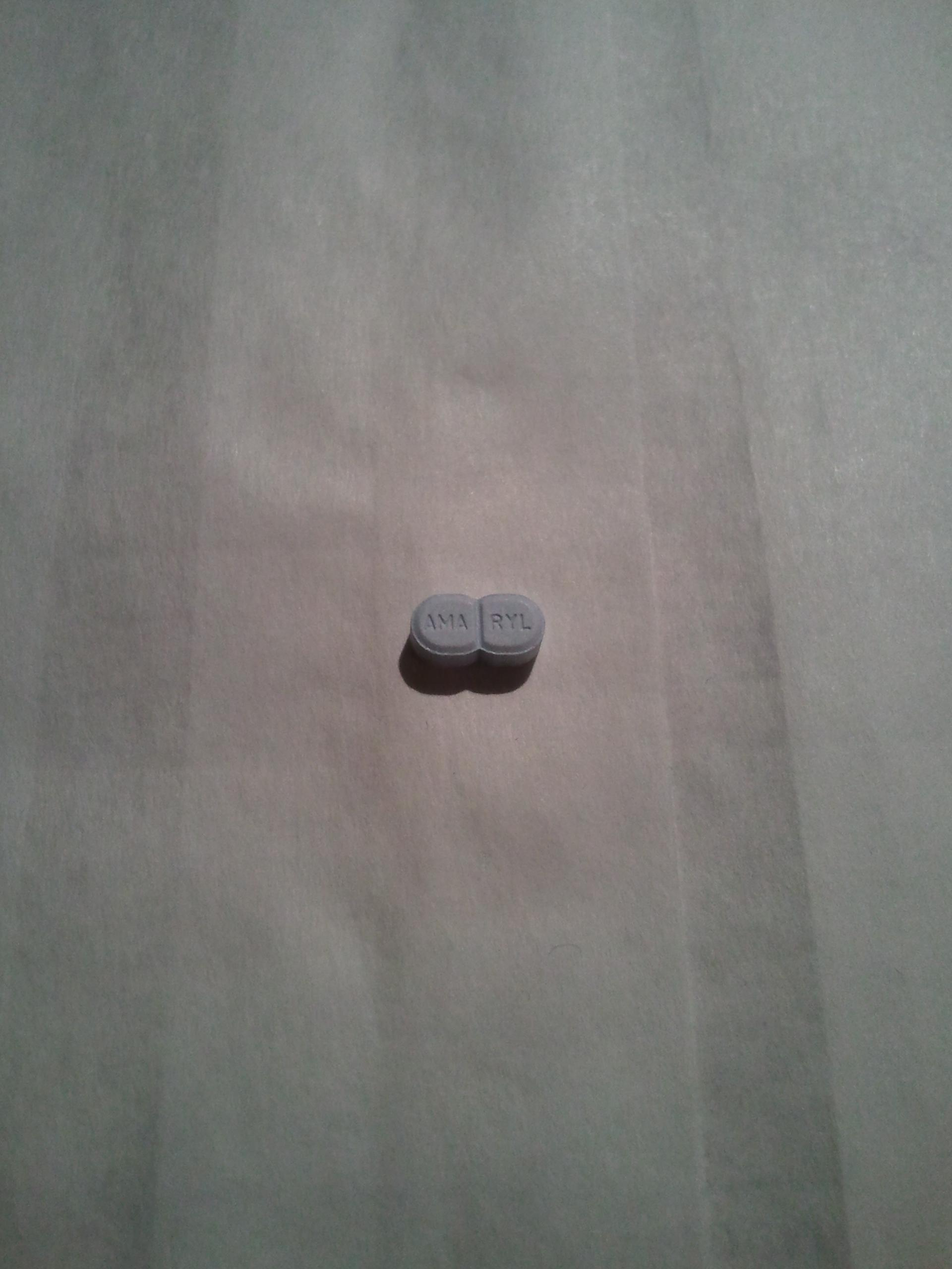Pill: (384, 573, 564, 691)
